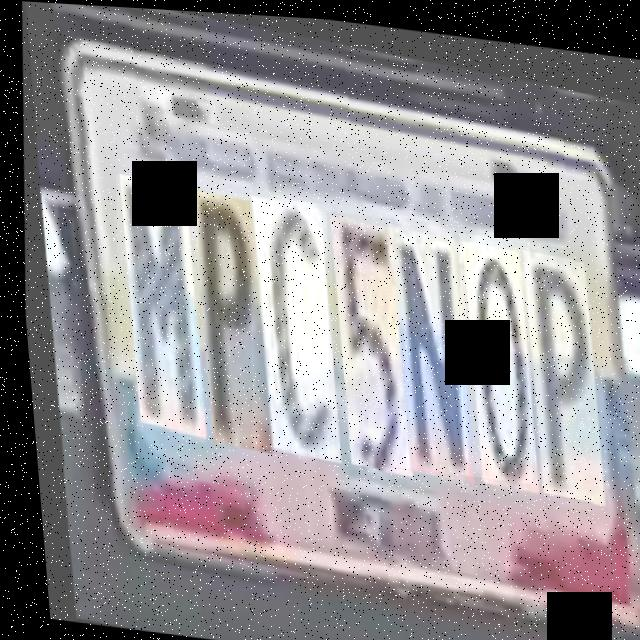5: (306, 206, 415, 466)
C: (228, 191, 345, 455)
M: (95, 172, 210, 434)
N: (366, 213, 477, 471)
O: (438, 226, 541, 478)
P: (168, 184, 275, 447), (499, 234, 608, 488)
